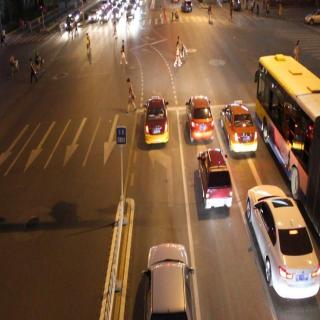BigCar: (256, 52, 320, 186)
Car: (245, 183, 318, 302), (140, 241, 193, 320), (197, 146, 236, 216), (221, 96, 261, 158), (182, 93, 215, 142), (144, 94, 170, 146), (307, 8, 319, 28), (88, 8, 98, 28), (66, 11, 76, 29), (182, 0, 193, 16), (126, 6, 136, 21), (100, 10, 109, 26), (112, 6, 120, 22)
